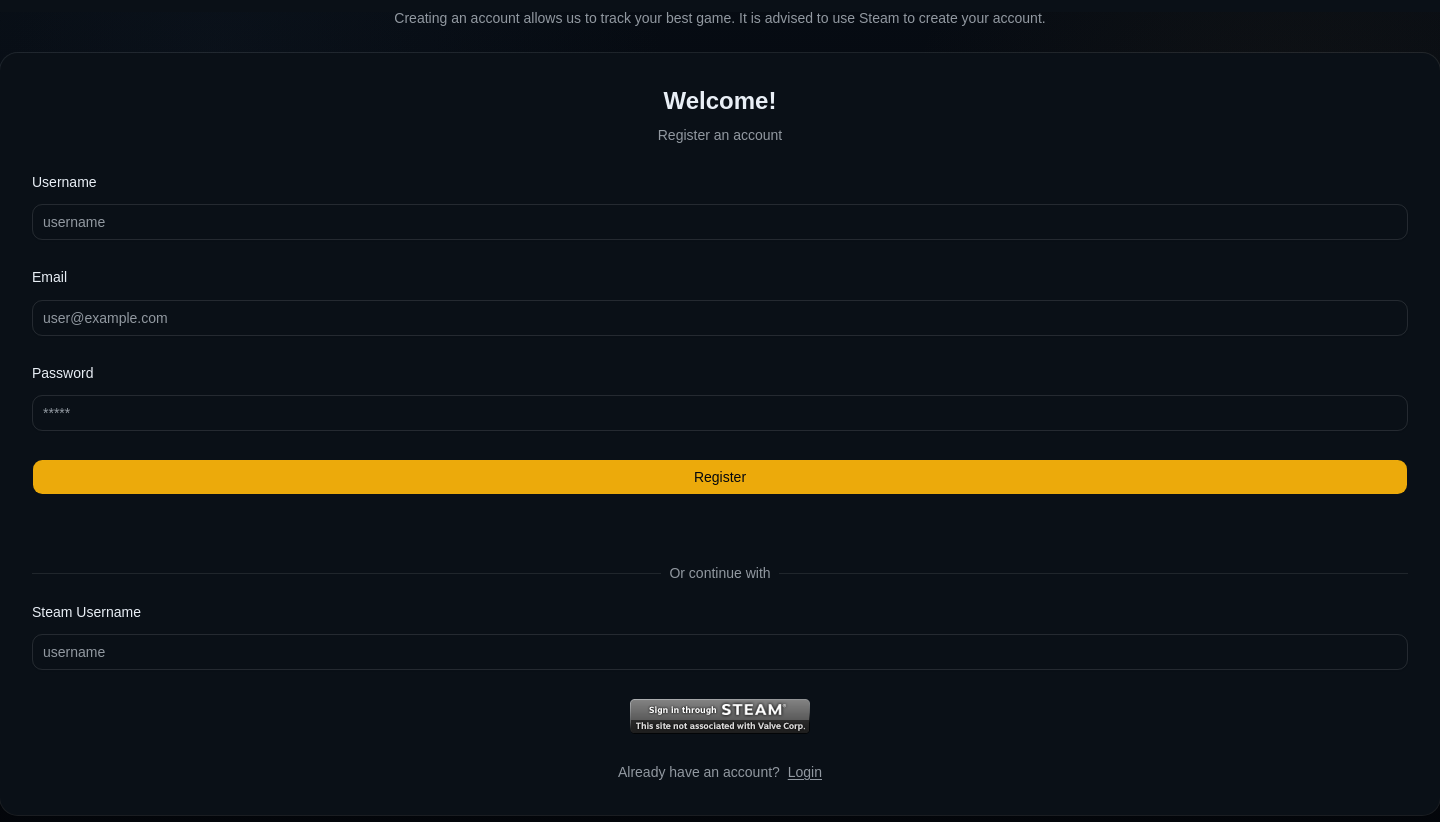
it: RegistrationForm › client-side validation › rejects a malformed email before contacting the service
Type "playerusername" into the field labelled "Username" at [720, 222], box [32, 204, 1408, 240]
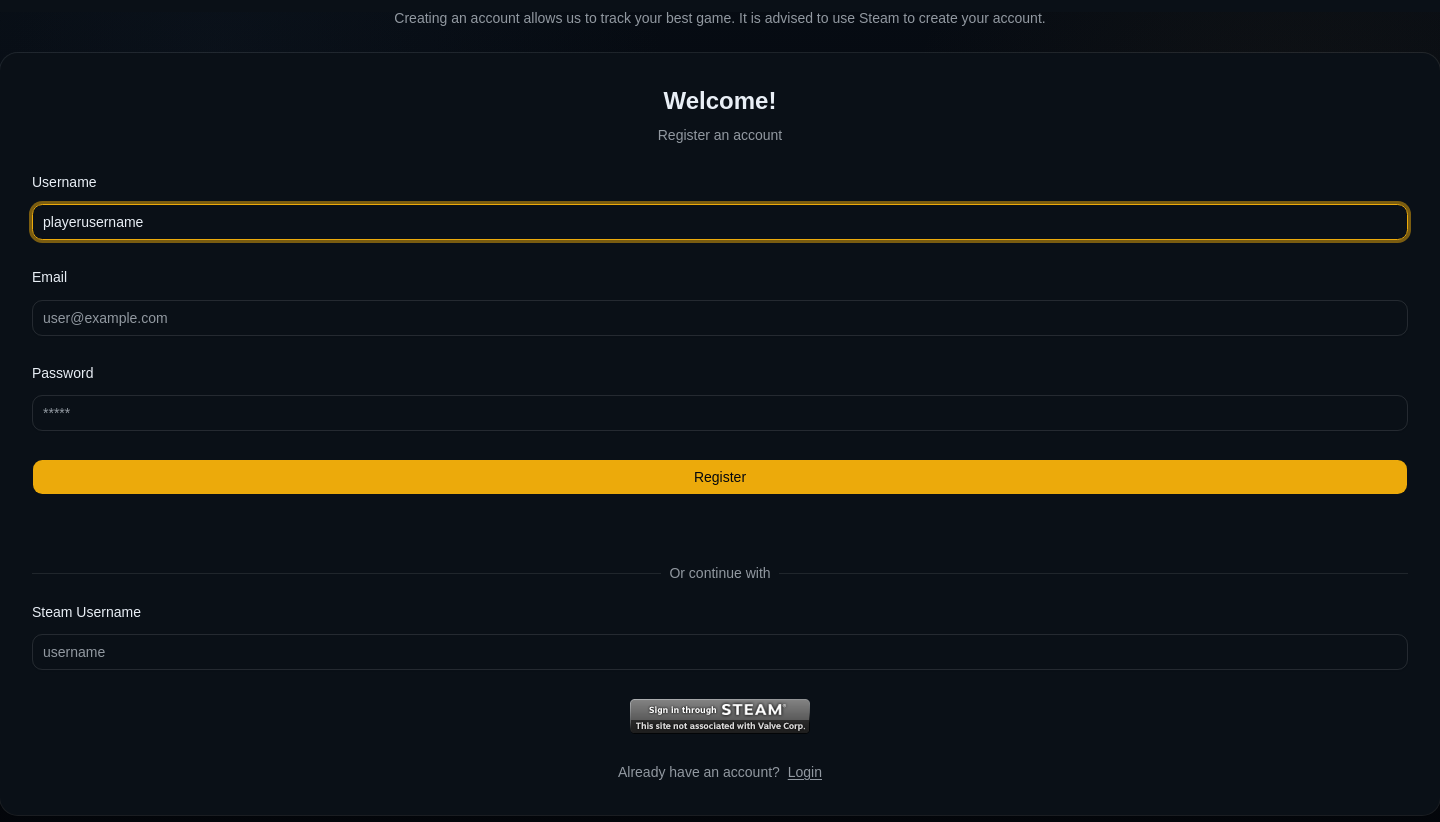
Type "not-an-email" into the field labelled "Email" at [720, 318], box [32, 300, 1408, 336]
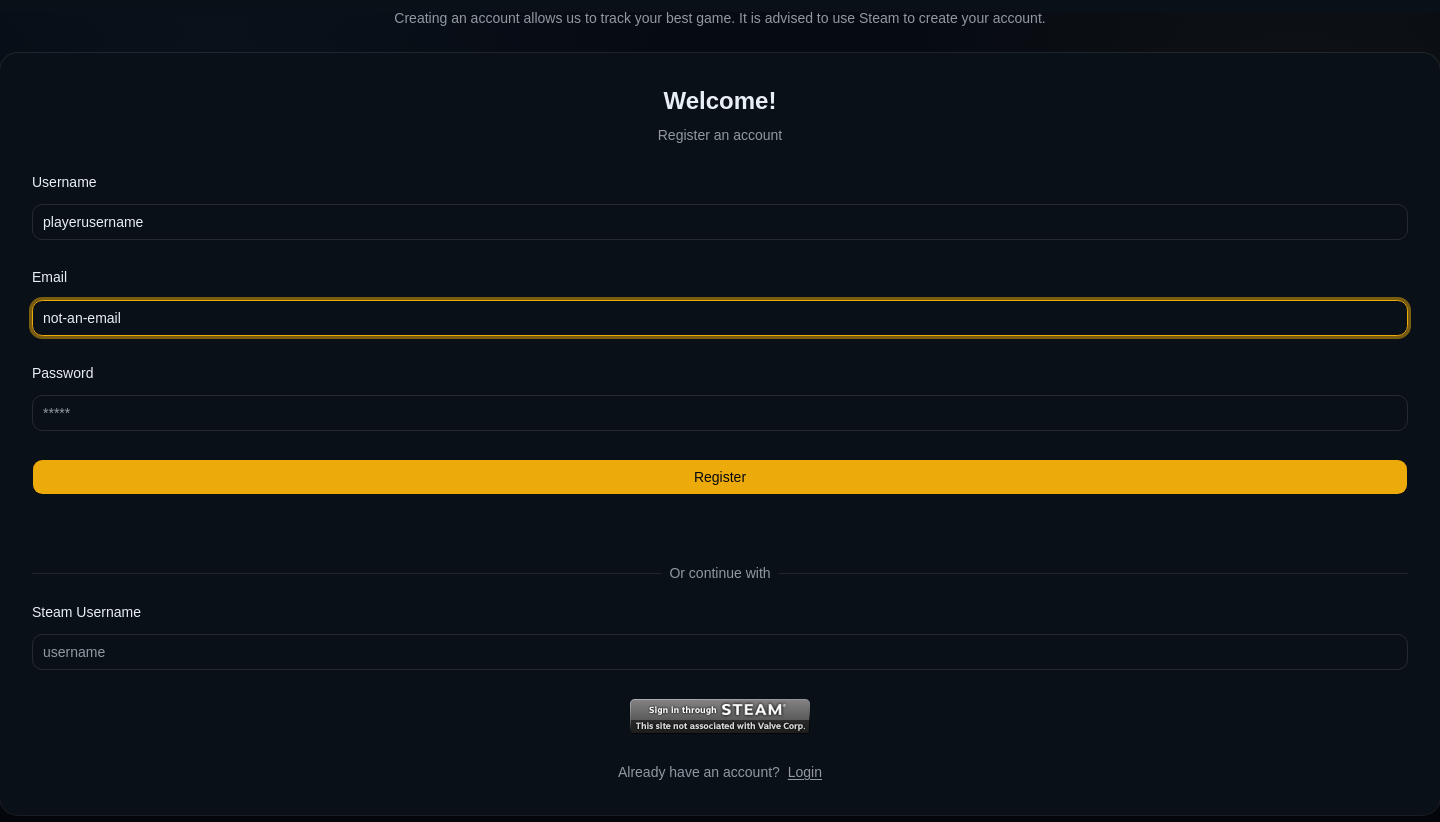
Type "playerexamplepassword" into the password field labelled "Password" at [720, 413], box [32, 395, 1408, 431]
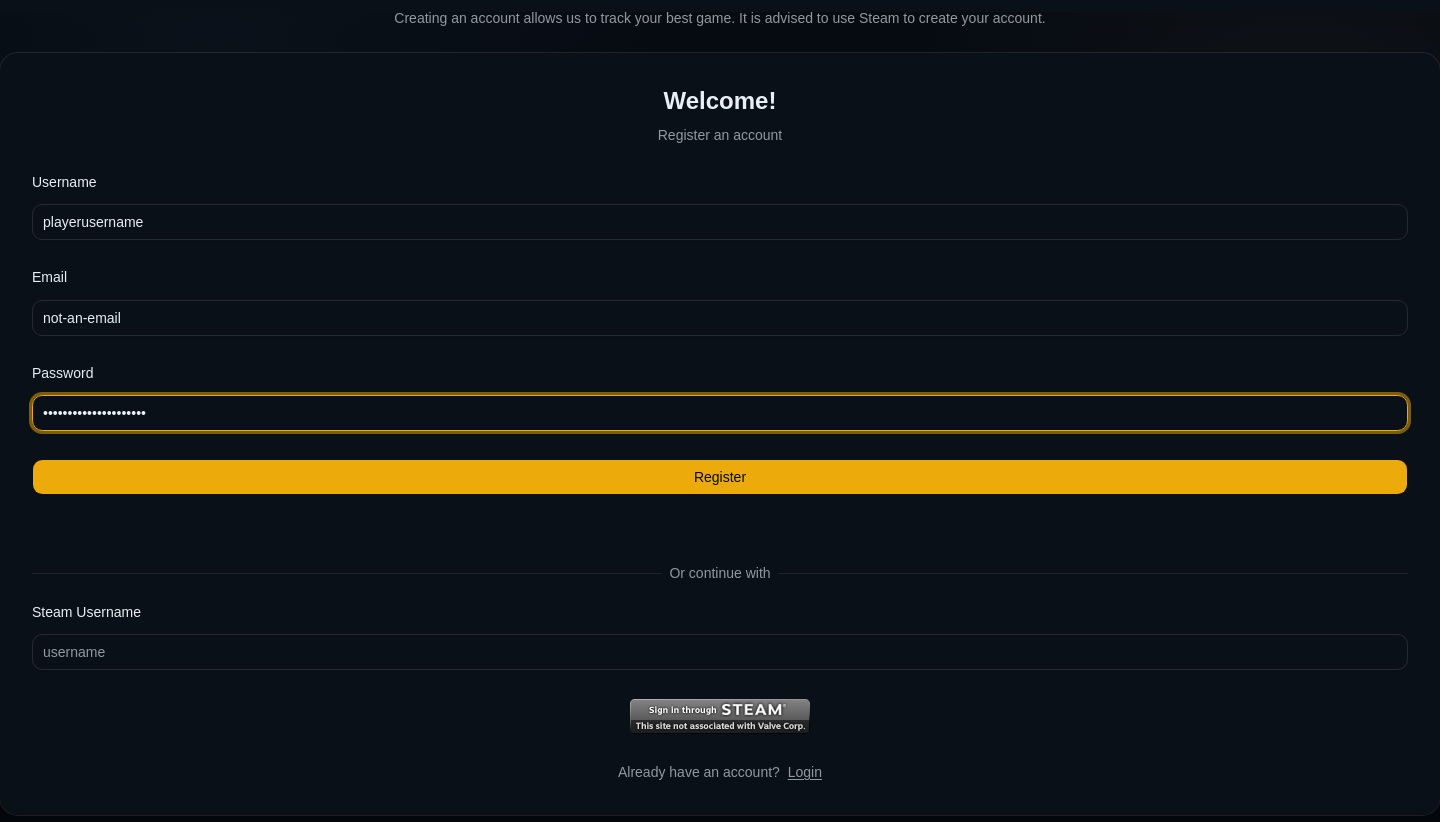
Click the button "Register" at [720, 477], box [32, 459, 1408, 495]
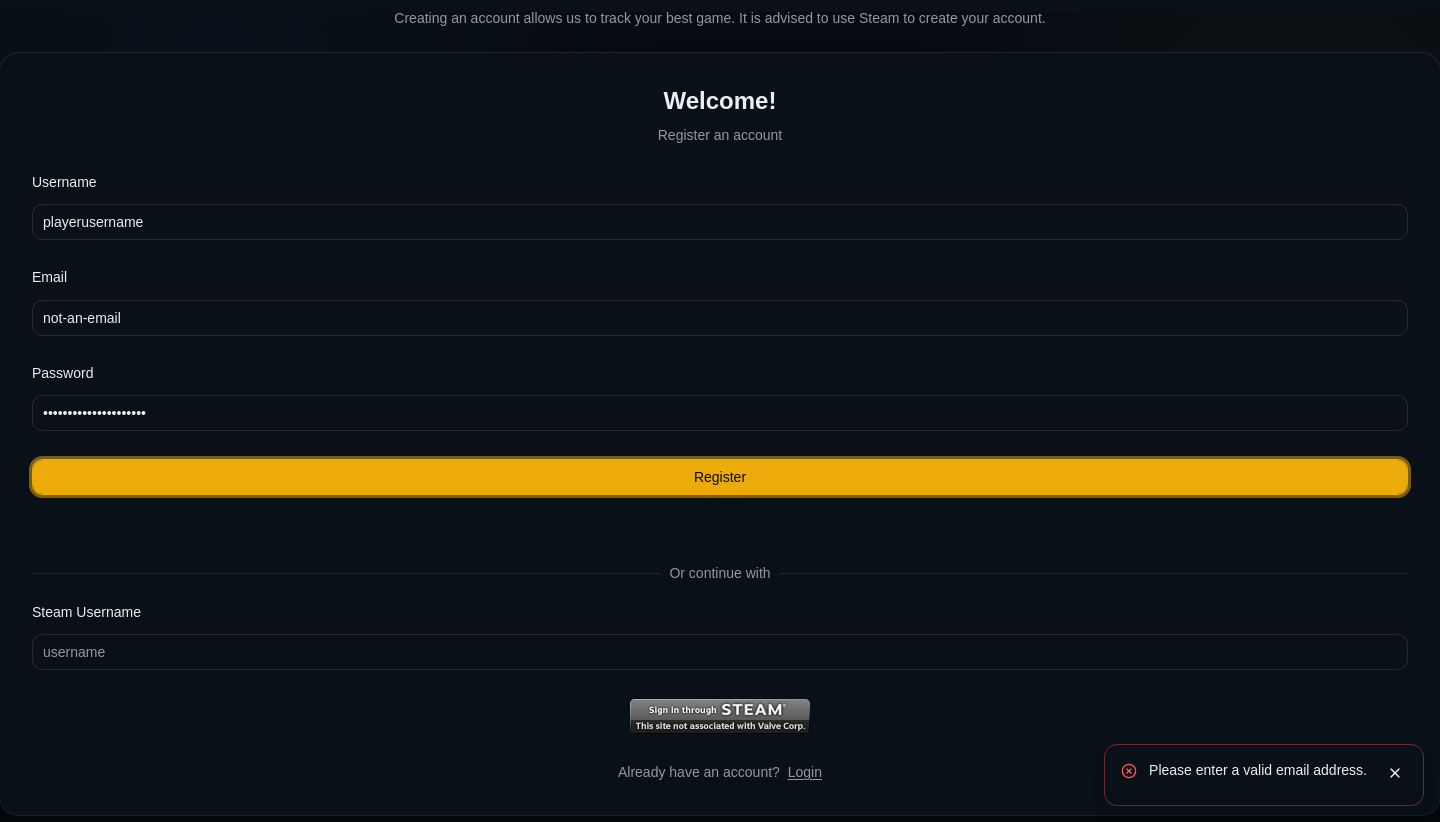
Result: the text "Please enter a valid email address." is shown at [1149, 761, 1367, 780]
